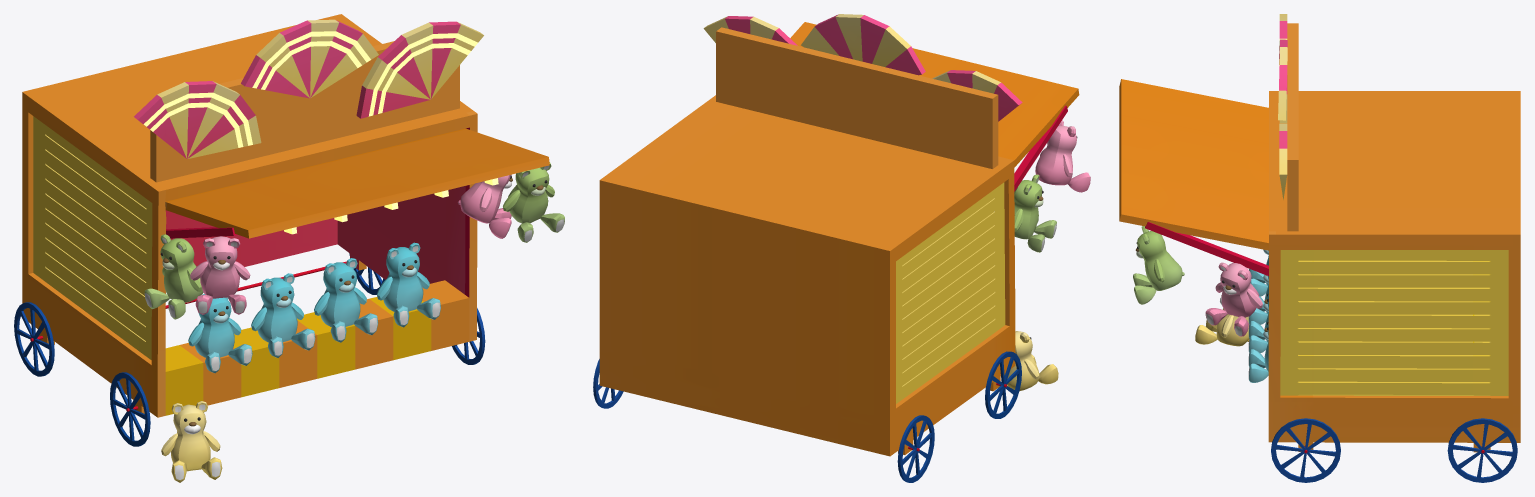
The model's file is prize booth.fbx.
3 views of the same model, side by side, from view 1: azimuth 30°, elevation 25°; view 2: azimuth 150°, elevation 25°; view 3: azimuth 270°, elevation 25° (orthographic). The views are drawn at different scales.
Visible parts, largest first — view 1: cart, bear group, bear002, bear003, bear001, bear004, bear005, wheel.004, wheel.002, wheel.001; view 2: cart, bear003, bear001, wheel.002, wheel.004, bear002; view 3: cart, bear005, bear004, wheel.001, wheel.003, bear group, bear002.
Part boxes in pixels (box(x1,y1,x2,y2)): cart: box(22, 14, 549, 417); bear group: box(188, 242, 440, 373); bear002: box(161, 401, 222, 482); bear003: box(190, 236, 250, 314); bear001: box(144, 234, 203, 319); bear004: box(503, 162, 564, 242); bear005: box(458, 174, 512, 238); wheel.004: box(14, 302, 54, 376); wheel.002: box(110, 372, 150, 446); wheel.001: box(452, 308, 485, 364); cart: box(599, 14, 1079, 456); bear003: box(1035, 120, 1090, 192); bear001: box(1014, 174, 1056, 252); wheel.002: box(985, 351, 1021, 418); wheel.004: box(897, 415, 934, 482); bear002: box(1004, 331, 1058, 391); cart: box(1119, 14, 1520, 452); bear005: box(1205, 262, 1262, 336); bear004: box(1133, 226, 1184, 304); wheel.001: box(1271, 418, 1340, 482); wheel.003: box(1447, 418, 1517, 482); bear group: box(1248, 249, 1268, 382); bear002: box(1195, 295, 1249, 346).
Size of the model in its own units: 5.01 by 5.16 by 5.2.
